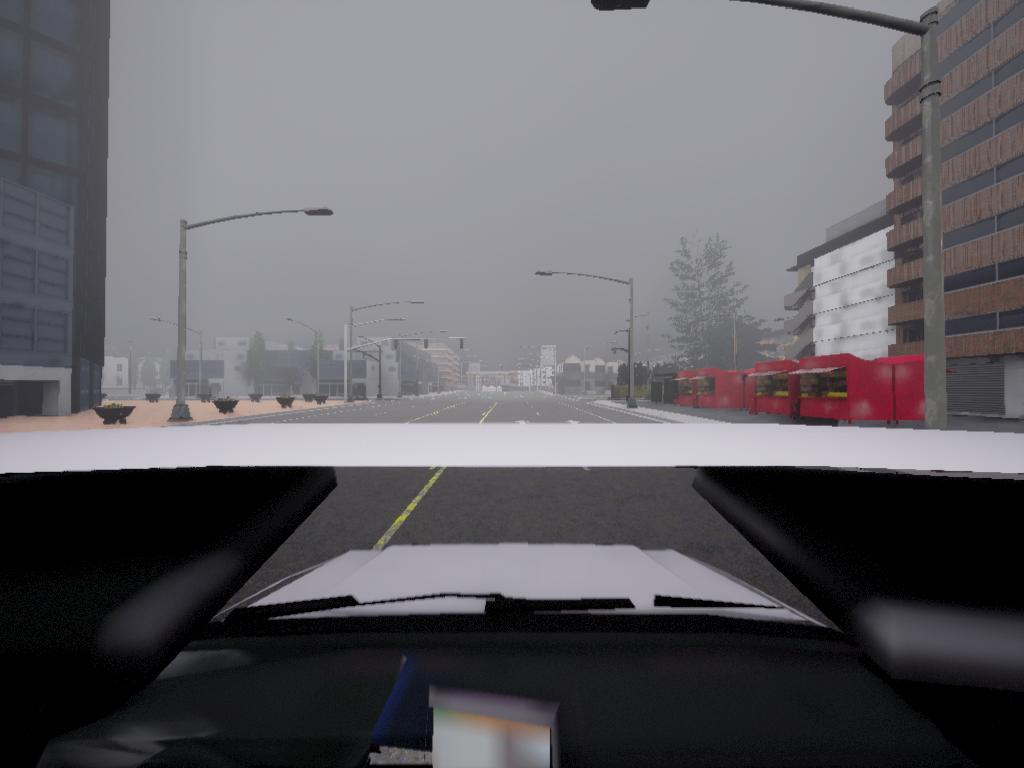traffic_light: (587, 1, 656, 12), (393, 339, 400, 351), (424, 339, 429, 350), (460, 339, 464, 349), (499, 364, 504, 372), (516, 364, 520, 373), (531, 365, 534, 373)
